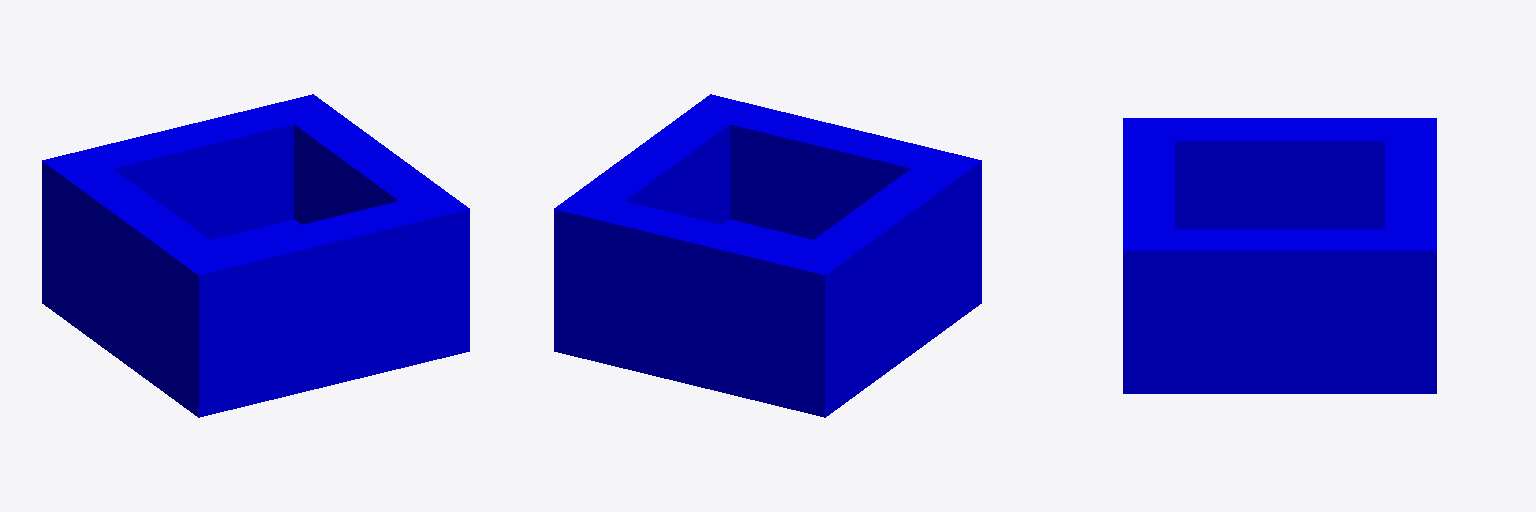
Rendered from macetero.obj.
The picture shows the model from 3 angles: view 1: azimuth 30°, elevation 25°; view 2: azimuth 150°, elevation 25°; view 3: azimuth 270°, elevation 25°; orthographic projection.
Bounding box in the file's own units: 3 × 1.5 × 3.